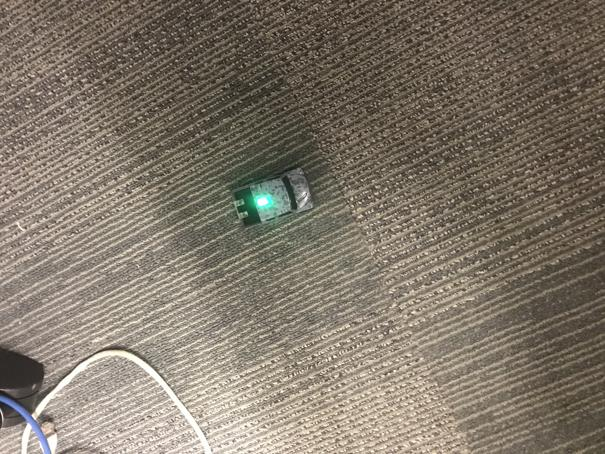MXT: (229, 164, 316, 227)
